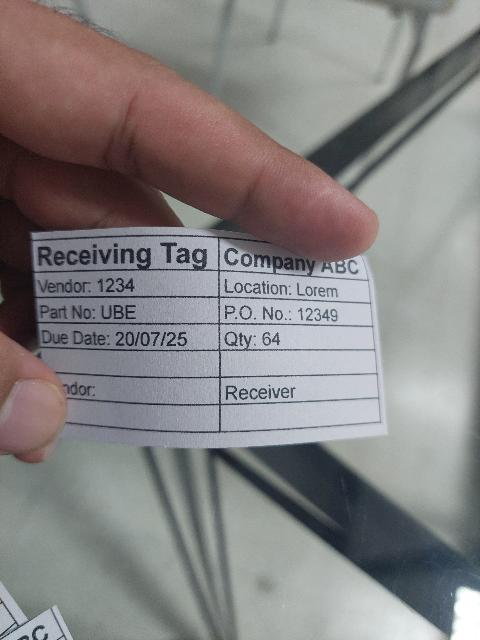PO no: (219, 297, 371, 325)
part no: (37, 297, 220, 323)
qty: (218, 325, 373, 350)
tags: (28, 228, 389, 451)
